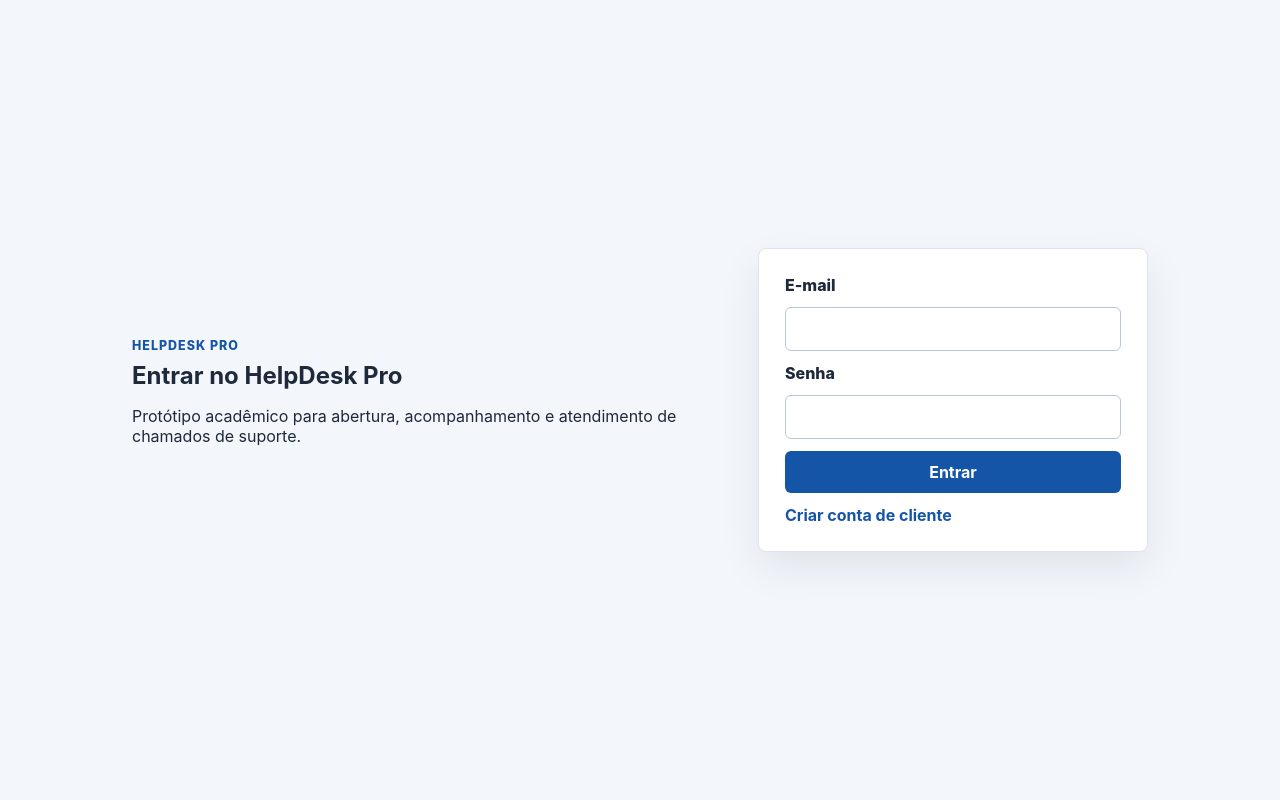
HelpDesk Pro - Casos de Teste › CT005 - Login com credenciais validas
The width and height of the screenshot is (1280, 800).
Type "cliente@teste.com" into the field with id "email" at x=953, y=329, box [785,307,1121,351]
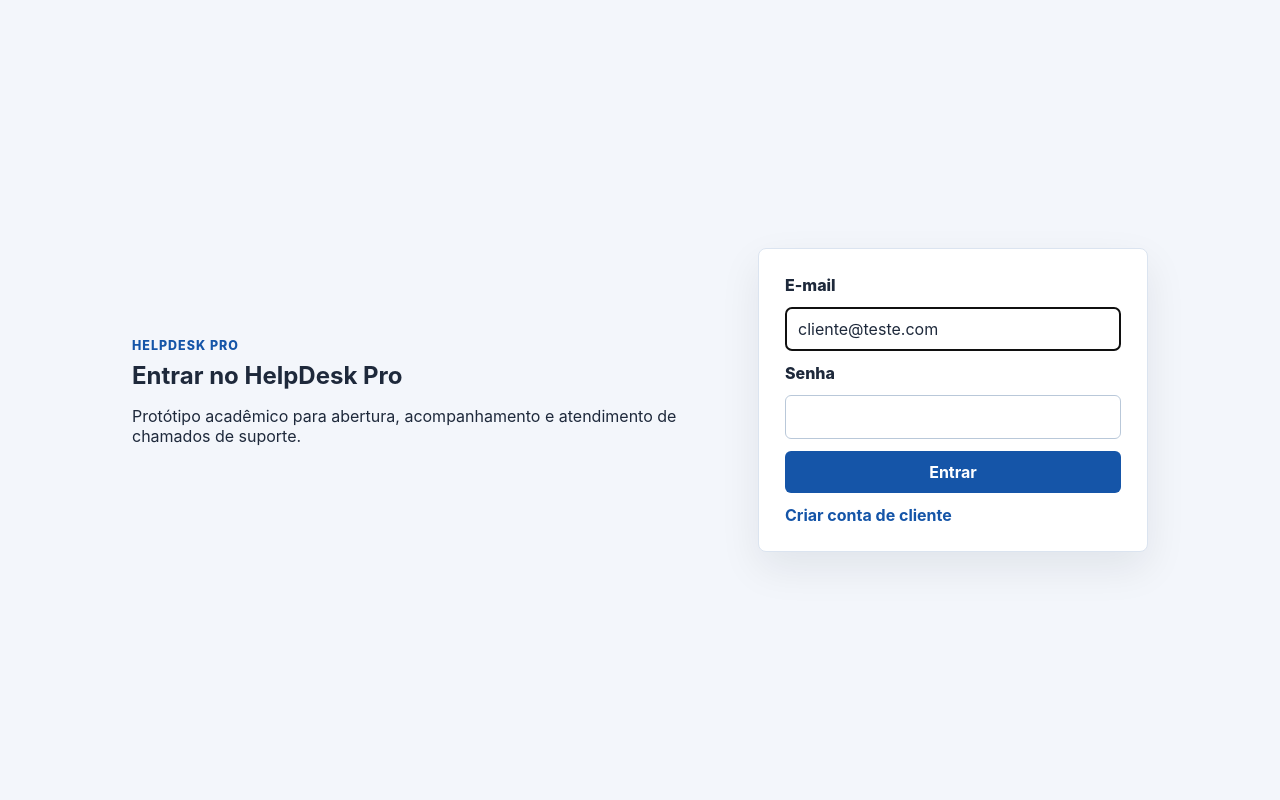
Type "123456" into the password field labelled "Senha" at x=953, y=417, box [785,395,1121,439]
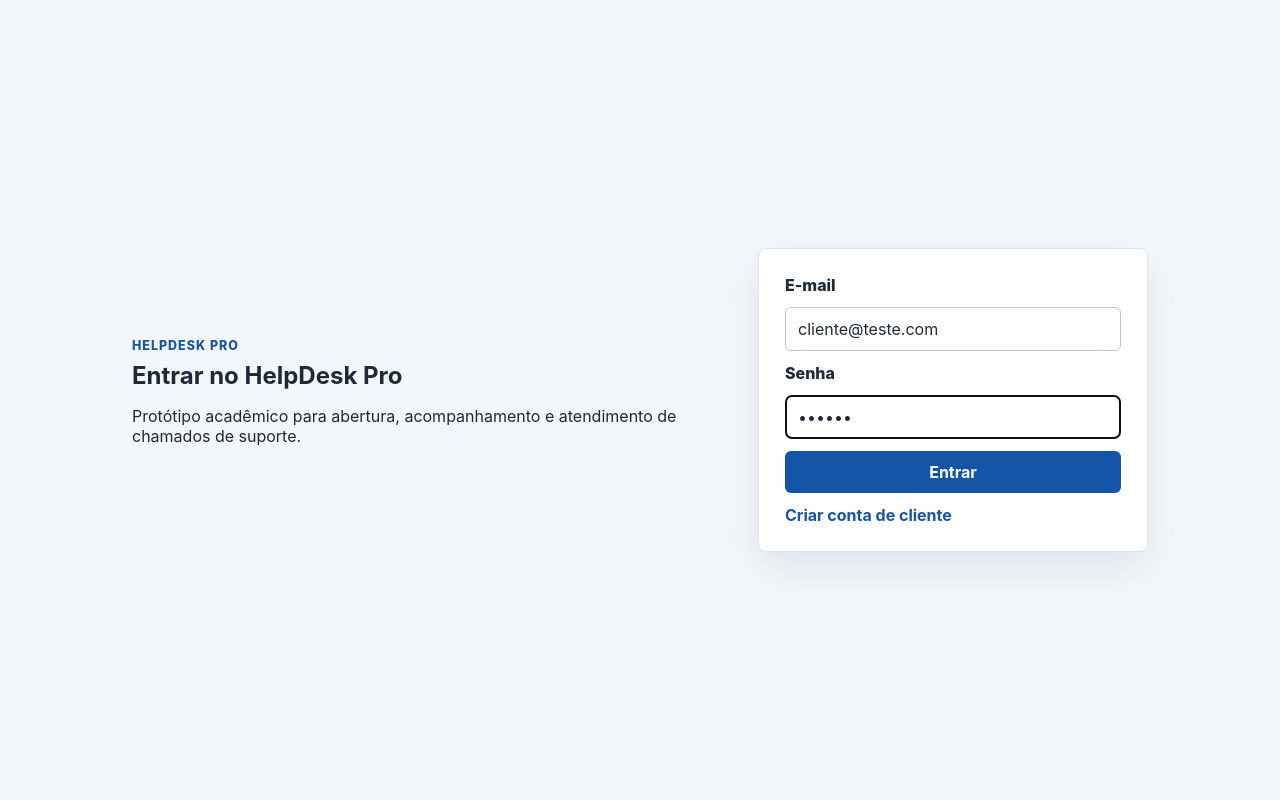
Click the button "Entrar" at x=953, y=472, box [785,451,1121,493]
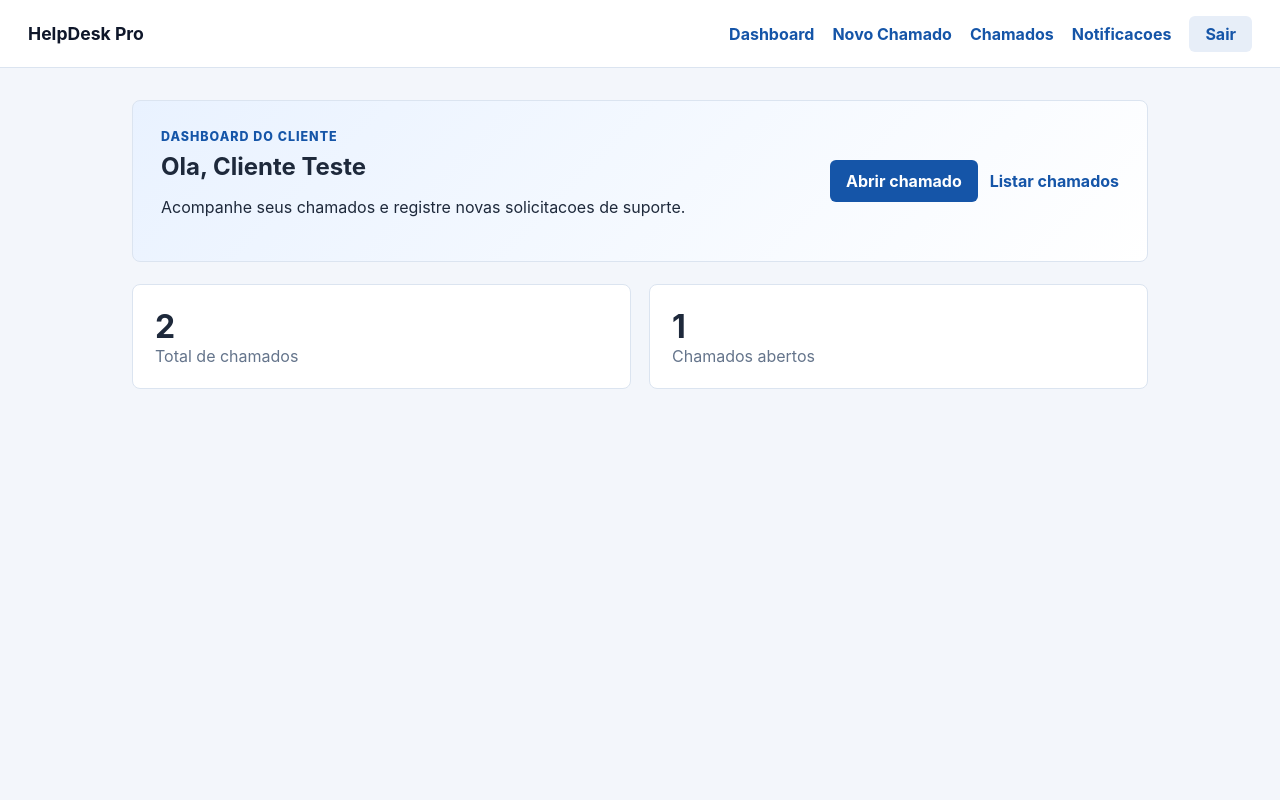
Expected: the text "Dashboard do Cliente" is shown, [161,129,338,144]
